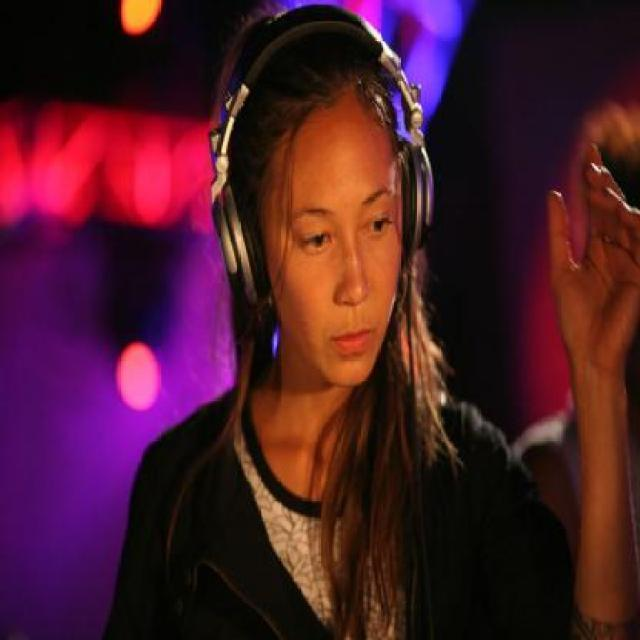earphone: (171, 0, 478, 303)
